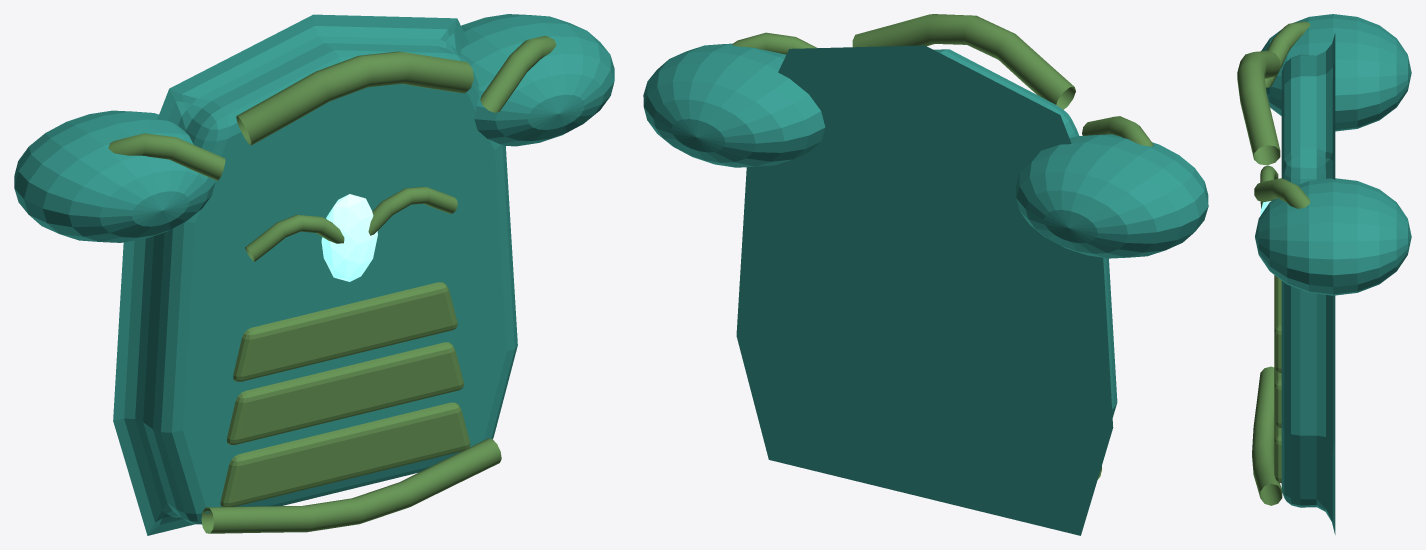
File: armor_aurora.glb
3 views of the same model, side by side, from view 1: azimuth 30°, elevation 25°; view 2: azimuth 150°, elevation 25°; view 3: azimuth 270°, elevation 25° (orthographic). The views are drawn at different scales.
Visible parts, largest first — view 1: Breastplate, ShoulderGuard, ShoulderGuard.001, AbPlate, AbPlate.001, AbPlate.002, WaistTrim, Collar, ChestGem, ShoulderTrim, ShoulderTrim.001, VineL (+1 smaller); view 2: Breastplate, ShoulderGuard, ShoulderGuard.001, Collar, ShoulderTrim, ShoulderTrim.001; view 3: Breastplate, ShoulderGuard.001, ShoulderGuard, Collar, WaistTrim, ShoulderTrim.001, ShoulderTrim, AbPlate.002, AbPlate, AbPlate.001, VineL.
Boxes of the visible parts, <box> form: Breastplate: <box>113,14,517,535</box>; ShoulderGuard: <box>14,110,215,242</box>; ShoulderGuard.001: <box>460,14,614,146</box>; AbPlate: <box>220,402,470,506</box>; AbPlate.001: <box>227,342,463,444</box>; AbPlate.002: <box>233,282,457,381</box>; WaistTrim: <box>201,438,501,533</box>; Collar: <box>236,51,473,145</box>; ChestGem: <box>321,194,377,281</box>; ShoulderTrim: <box>108,133,225,180</box>; ShoulderTrim.001: <box>480,35,556,112</box>; VineL: <box>245,215,344,261</box>; Breastplate: <box>736,45,1117,535</box>; ShoulderGuard: <box>1016,134,1208,258</box>; ShoulderGuard.001: <box>643,43,825,167</box>; Collar: <box>852,14,1075,109</box>; ShoulderTrim: <box>1082,116,1153,146</box>; ShoulderTrim.001: <box>732,32,817,54</box>; Breastplate: <box>1281,33,1335,534</box>; ShoulderGuard.001: <box>1255,178,1411,295</box>; ShoulderGuard: <box>1261,14,1411,131</box>; Collar: <box>1237,50,1280,165</box>; WaistTrim: <box>1252,366,1282,505</box>; ShoulderTrim.001: <box>1254,178,1310,208</box>; ShoulderTrim: <box>1265,21,1310,87</box>; AbPlate.002: <box>1274,275,1281,373</box>; AbPlate: <box>1274,420,1281,483</box>; AbPlate.001: <box>1274,365,1281,428</box>; VineL: <box>1260,165,1278,208</box>.
Size of the model in its own units: 1.38 by 1.09 by 0.4226.
